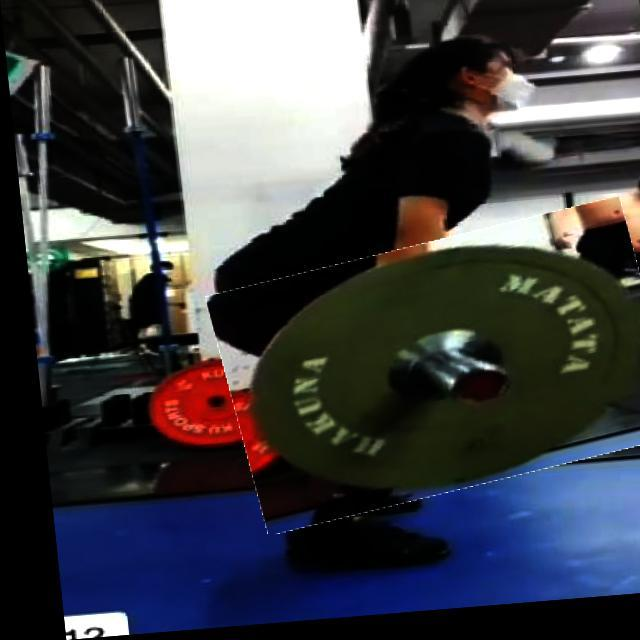barbell: (204, 221, 640, 526)
